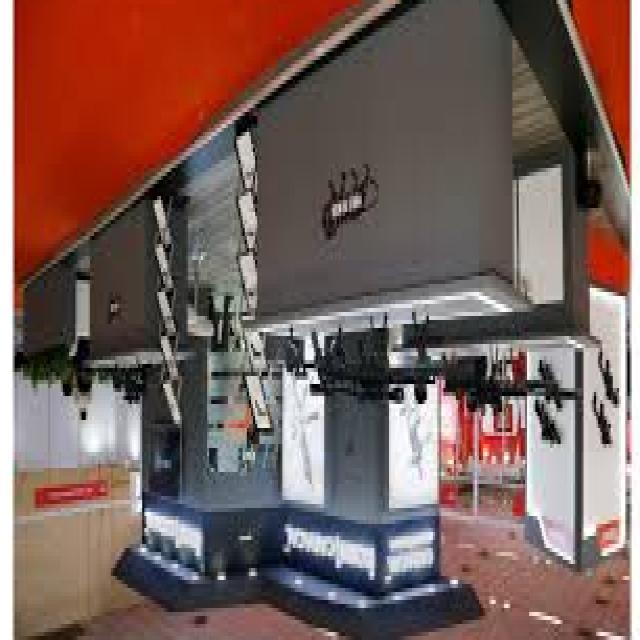Gun: (286, 328, 450, 426), (422, 332, 584, 424), (12, 348, 96, 422), (105, 354, 192, 422)
